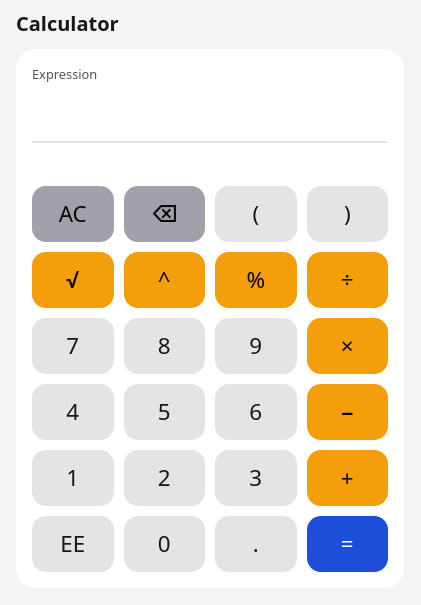
Test case: keyboard › shows / and - as ÷ and −
This screenshot has width=421, height=605.
Check: the button named "equals" is shown, box [306,516,388,572]
Type "1/4-2" into the field labelled "Expression". click: (210, 115)
box: [32,87,388,143]
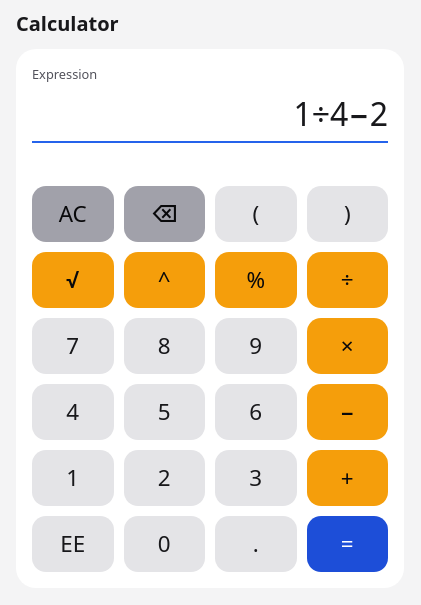
Check: the field labelled "Expression" holds "1÷4−2", box [32,87,388,143]
